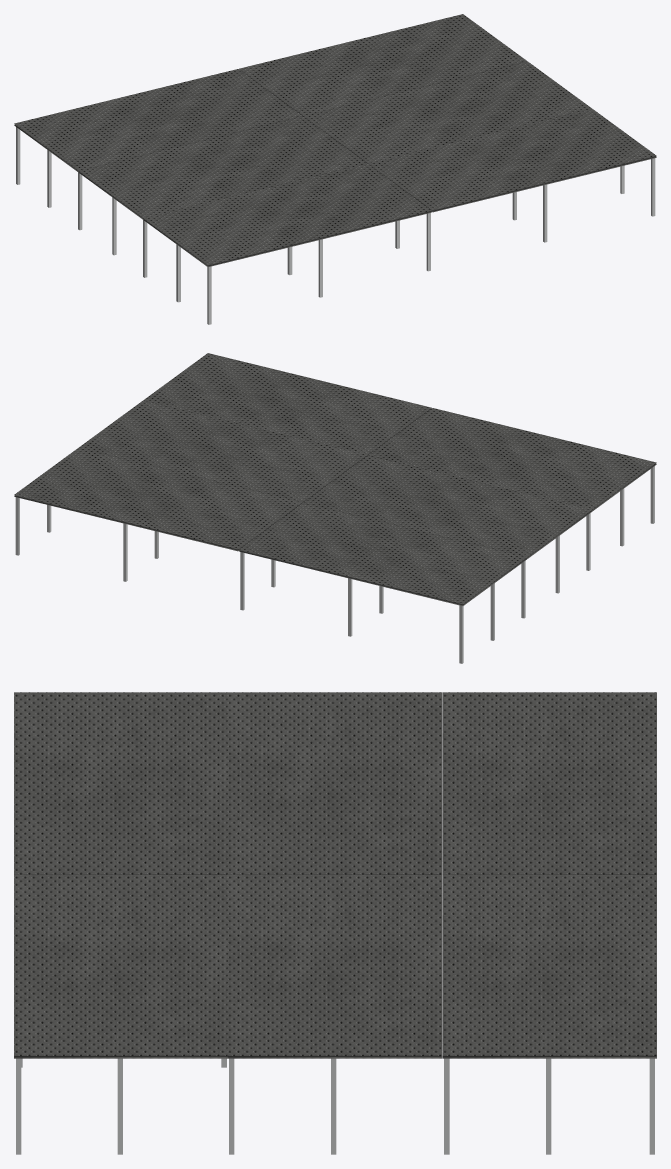
File: StageFloorAndSupports.fbx
3 renders of one model, top to bottom at view 1: azimuth 30°, elevation 25°; view 2: azimuth 150°, elevation 25°; view 3: azimuth 270°, elevation 25°, orthographic. The views are drawn at different scales.
Parts seen in each view (by area): view 1: StageFloorAndSupports; view 2: StageFloorAndSupports; view 3: StageFloorAndSupports.
Boxes of the visible parts, x1,y1,x2,y2 form: StageFloorAndSupports: (14,14,656,324); StageFloorAndSupports: (14,353,656,663); StageFloorAndSupports: (14,692,656,1154).
Size of the model in its own units: 1602 by 205 by 1198.
Materials: 2 (1 with a texture image).
